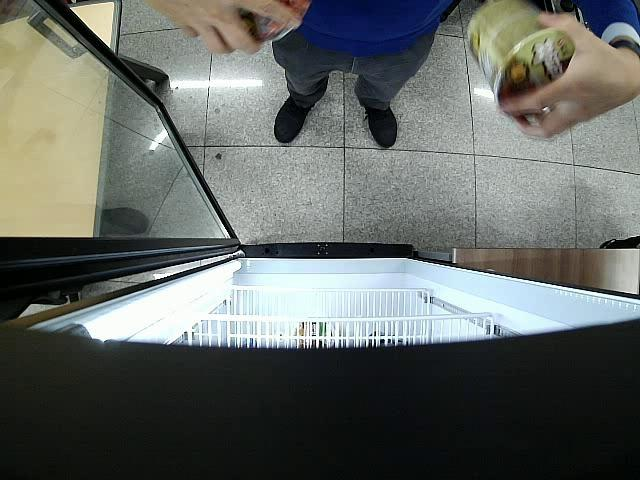03_chapagetti_L: (467, 0, 574, 104), (228, 0, 312, 46)
